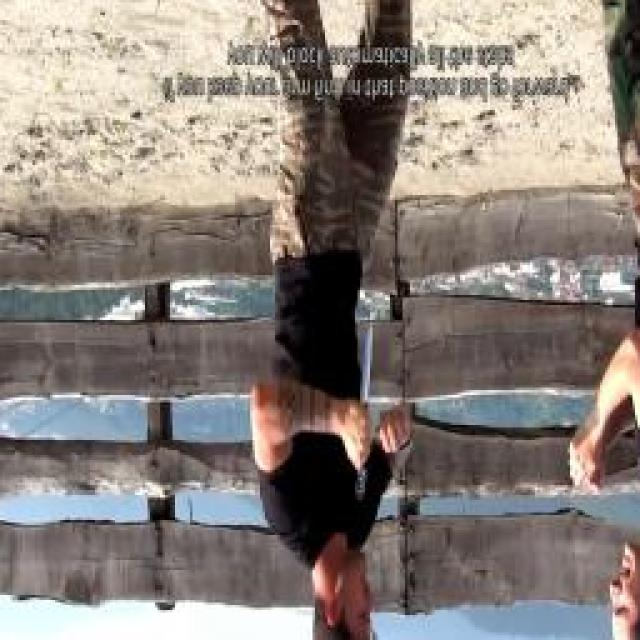knife: (350, 314, 378, 462)
